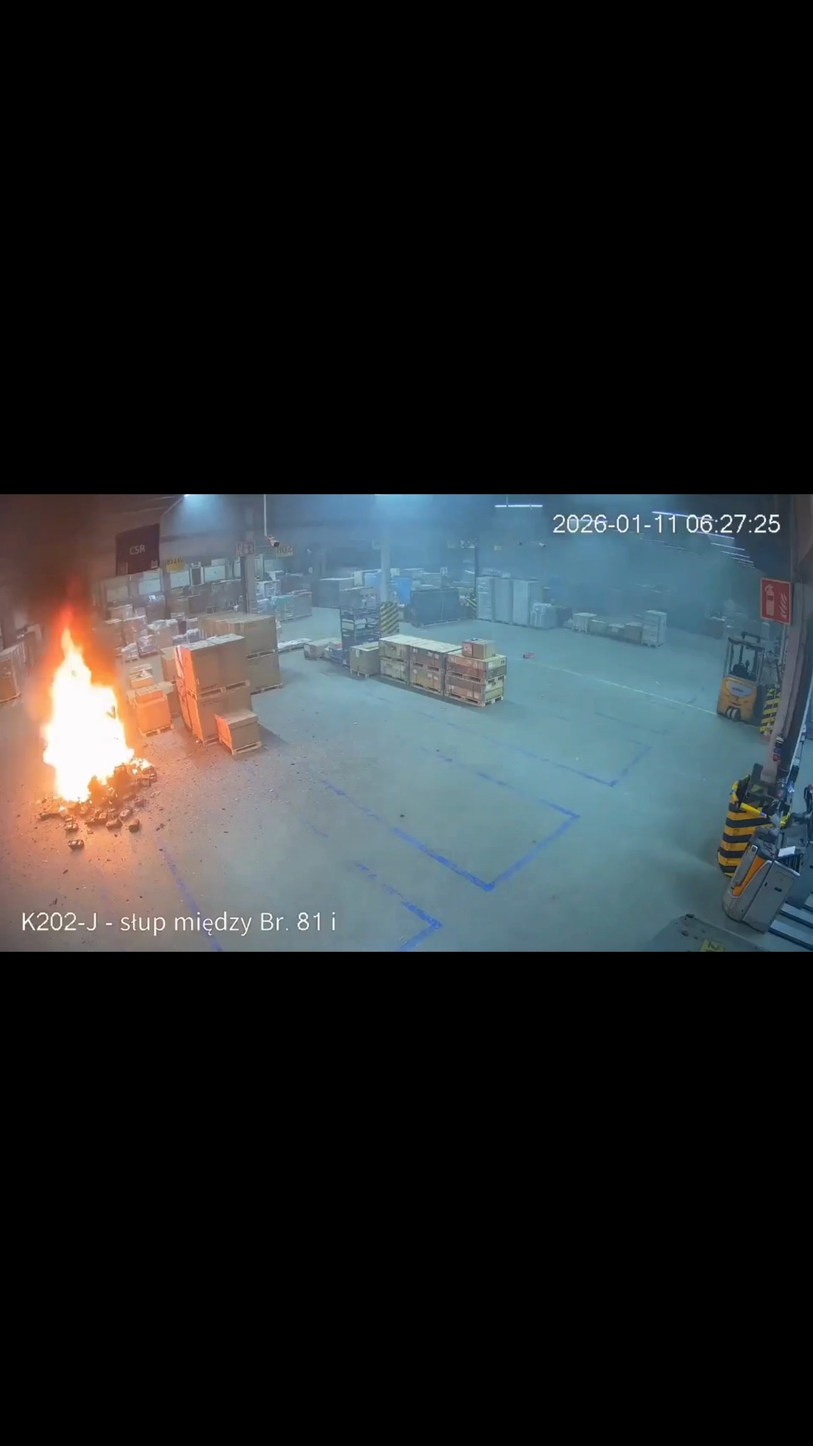fire: (30, 623, 143, 828)
